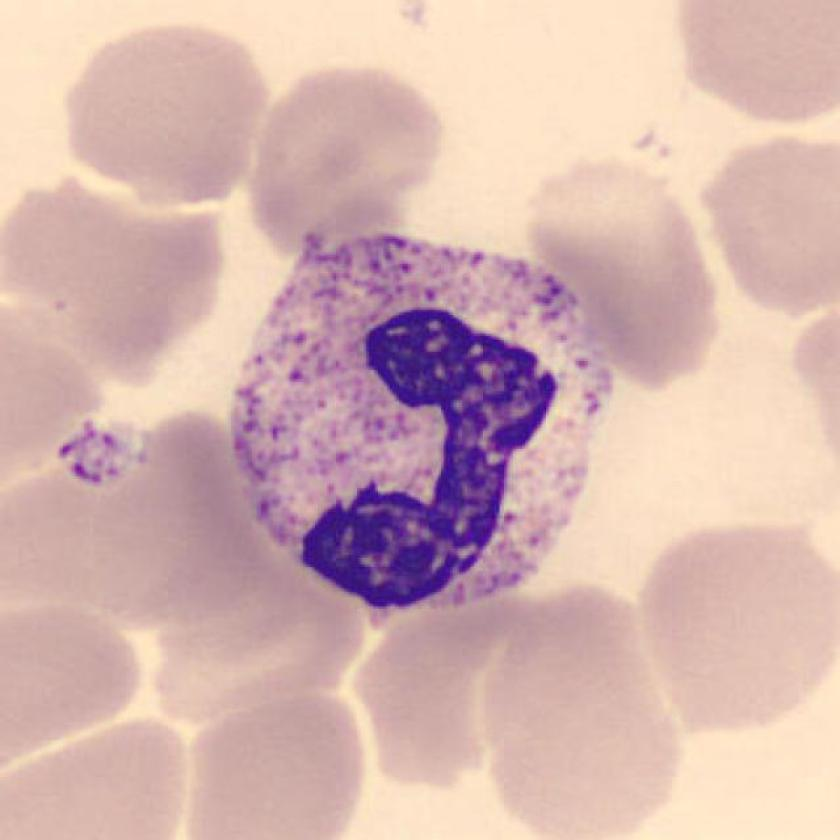neutrophil: (229, 233, 610, 613)
